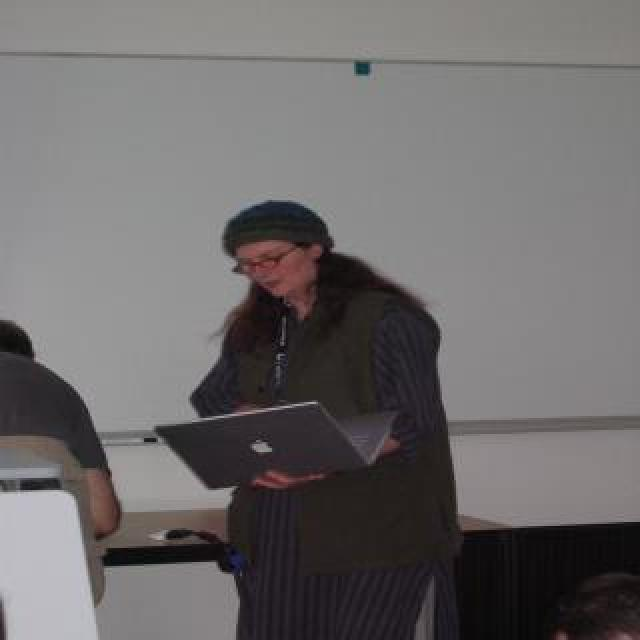laptop_computer: (137, 391, 424, 508)
